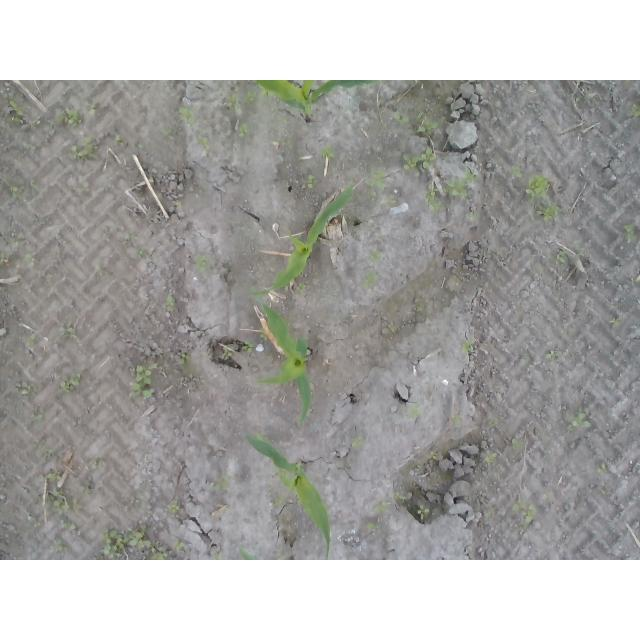Maize: (250, 183, 354, 298), (240, 433, 332, 560), (256, 303, 314, 426), (254, 80, 380, 124)
Weeds: (96, 526, 152, 560), (444, 166, 480, 199), (401, 144, 436, 177), (129, 364, 159, 401), (36, 491, 81, 514), (408, 111, 441, 138), (0, 93, 24, 128), (511, 498, 537, 530), (423, 183, 449, 214), (47, 107, 81, 128), (68, 136, 96, 161), (525, 174, 551, 199), (568, 409, 593, 431), (543, 198, 561, 222), (367, 166, 385, 190), (61, 373, 81, 392), (3, 182, 25, 199), (206, 475, 228, 491), (404, 399, 423, 417), (179, 106, 193, 129), (271, 107, 288, 125), (224, 95, 240, 114), (623, 222, 638, 242), (237, 118, 251, 139), (320, 144, 337, 161), (167, 498, 185, 514), (159, 126, 177, 142), (360, 270, 376, 287), (303, 173, 318, 191), (163, 294, 177, 312), (176, 351, 190, 369), (195, 255, 209, 273), (59, 320, 74, 336), (392, 110, 409, 124), (149, 548, 167, 561), (374, 500, 392, 513), (31, 411, 48, 424), (278, 476, 295, 489), (39, 471, 61, 481), (173, 537, 187, 552), (271, 495, 286, 509), (243, 92, 257, 107), (510, 162, 523, 178), (393, 489, 407, 503), (196, 135, 210, 149), (352, 433, 365, 448), (628, 102, 640, 118), (37, 447, 56, 457), (555, 248, 566, 265), (544, 350, 560, 361), (240, 341, 253, 354), (368, 249, 380, 263), (19, 387, 34, 398), (466, 211, 481, 221), (462, 340, 474, 352), (484, 452, 496, 464), (417, 504, 430, 515), (30, 116, 41, 129), (53, 539, 63, 553), (511, 438, 523, 449), (596, 462, 607, 474), (113, 134, 124, 146), (23, 253, 34, 265), (450, 414, 463, 424), (223, 345, 232, 359), (368, 522, 383, 530), (608, 317, 620, 327), (431, 451, 442, 461), (295, 283, 305, 294), (64, 522, 77, 530), (260, 89, 273, 97), (260, 331, 268, 343), (368, 191, 377, 201), (134, 248, 144, 257), (213, 552, 224, 560), (488, 420, 497, 429), (86, 104, 96, 112), (0, 253, 8, 263), (136, 142, 146, 150), (609, 80, 615, 90), (634, 274, 640, 283)
